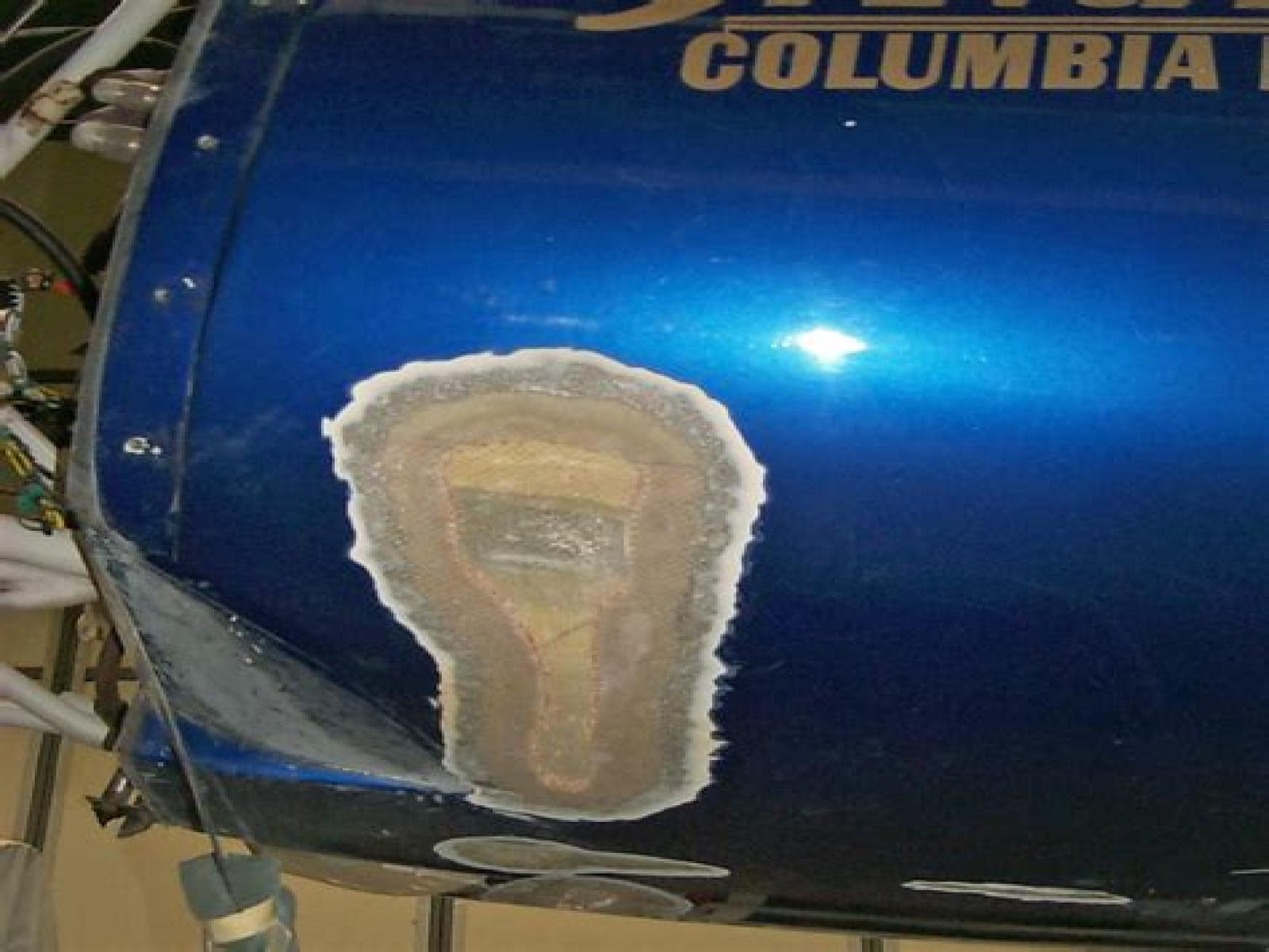Engine_damage: (327, 349, 763, 820), (83, 520, 460, 791), (436, 836, 726, 874), (270, 849, 482, 898), (482, 876, 691, 919), (905, 882, 1130, 900)
